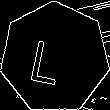L_N: (35, 30, 75, 85)
